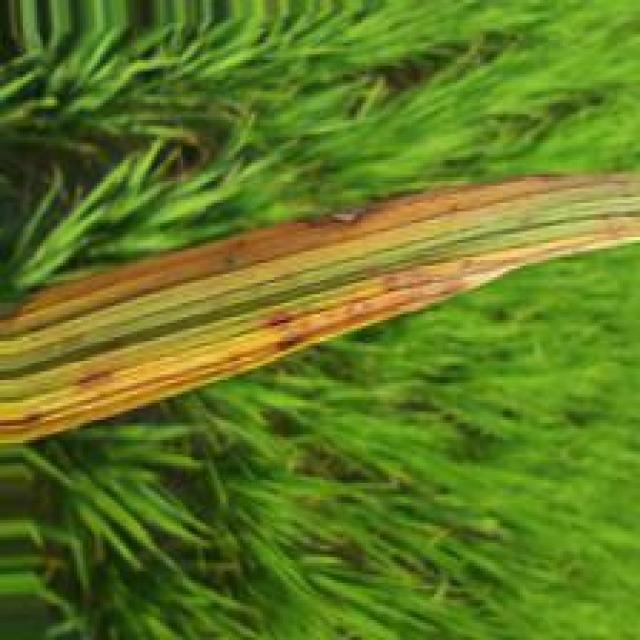Leaf_Blast: (330, 256, 547, 328), (289, 192, 396, 228)
